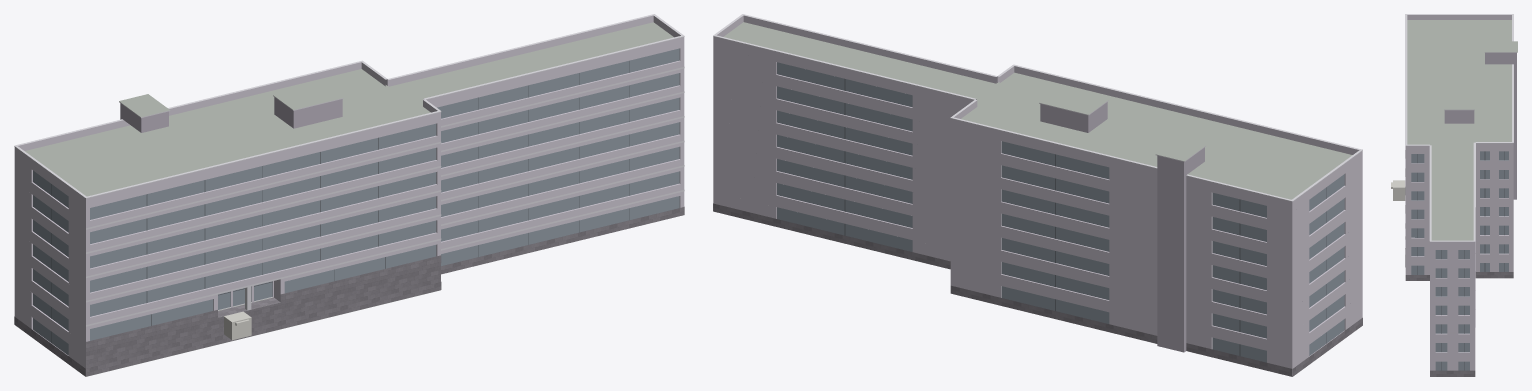
3 renders of one model, left to right at view 1: azimuth 30°, elevation 25°; view 2: azimuth 150°, elevation 25°; view 3: azimuth 270°, elevation 25°, orthographic. The views are drawn at different scales.
Parts seen in each view (by area): view 1: b33__wall, b33__glass, b33__roof, b33__base, b33__trim, b33__parapet, b33__wall2, b33__frame, b33__entranceStair; view 2: b33__wall, b33__glass, b33__roof, b33__parapet, b33__wall2, b33__base, b33__trim; view 3: b33__roof, b33__wall, b33__glass, b33__trim, b33__wall2, b33__parapet, b33__base, b33__frame, b33__entranceStair.
Part boxes in pixels (x1,y1,x2,y2): b33__wall: (14,43,684,376); b33__glass: (33,48,679,355); b33__roof: (25,22,673,376); b33__base: (14,207,684,376); b33__trim: (14,14,684,326); b33__parapet: (14,15,684,204); b33__wall2: (120,97,342,132); b33__frame: (51,61,629,342); b33__entranceStair: (224,311,251,340); b33__wall: (713,42,1362,376); b33__glass: (777,62,1344,362); b33__roof: (723,22,1352,199); b33__parapet: (713,15,1362,207); b33__wall2: (1040,102,1204,352); b33__base: (713,203,1362,376); b33__trim: (713,14,1362,201); b33__roof: (1407,20,1517,240); b33__wall: (1405,145,1513,370); b33__glass: (1411,151,1508,370); b33__trim: (1405,14,1517,241); b33__wall2: (1444,52,1516,199); b33__parapet: (1405,15,1513,246); b33__base: (1405,248,1513,376); b33__frame: (1417,151,1504,370); b33__entranceStair: (1391,180,1405,200).
Bounding box in the file's own units: 94.29 × 28.61 × 22.21.
Materials: 11 (1 with a texture image).
